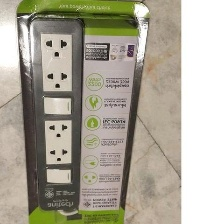book: (12, 0, 152, 224)
three_eye_plug: (24, 7, 86, 212)
